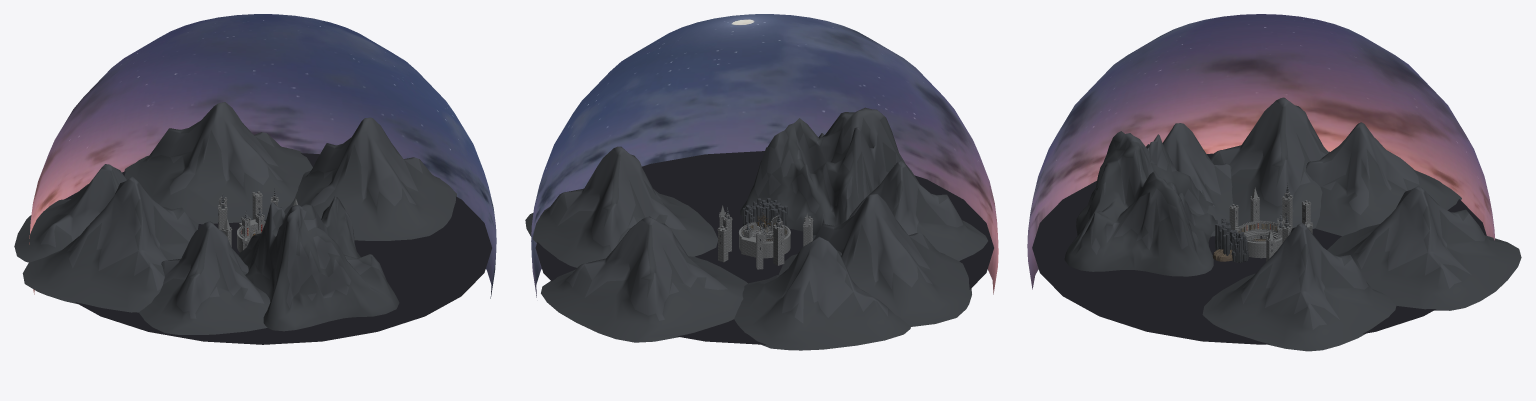
Rendered from arena.glb.
3 views of the same model, side by side, from view 1: azimuth 30°, elevation 25°; view 2: azimuth 150°, elevation 25°; view 3: azimuth 270°, elevation 25° (orthographic).
Visible parts, largest first — view 1: Arena_Atlas, Sky, Arena_Dark, Arena_Block, Arena_Stone; view 2: Arena_Atlas, Sky, Arena_Dark, Arena_Block, Arena_Brick, Arena_Stone; view 3: Arena_Atlas, Sky, Arena_Dark, Arena_Block, Arena_Brick, Arena_Stone.
Part boxes in pixels (<box>): Arena_Atlas: <box>14,102,456,334</box>; Sky: <box>29,14,496,298</box>; Arena_Dark: <box>64,153,491,344</box>; Arena_Block: <box>218,195,277,250</box>; Arena_Stone: <box>218,191,297,241</box>; Arena_Atlas: <box>525,107,987,350</box>; Sky: <box>531,14,998,297</box>; Arena_Dark: <box>535,151,993,344</box>; Arena_Block: <box>718,217,812,269</box>; Arena_Brick: <box>717,213,812,258</box>; Arena_Stone: <box>717,205,813,243</box>; Arena_Atlas: <box>1064,97,1521,351</box>; Sky: <box>1027,14,1494,289</box>; Arena_Dark: <box>1032,153,1486,344</box>; Arena_Block: <box>1229,198,1312,261</box>; Arena_Brick: <box>1229,195,1312,258</box>; Arena_Stone: <box>1229,187,1313,243</box>.
Bounding box in the file's own units: 400 × 230 × 401.
9 materials, 7 textured.
